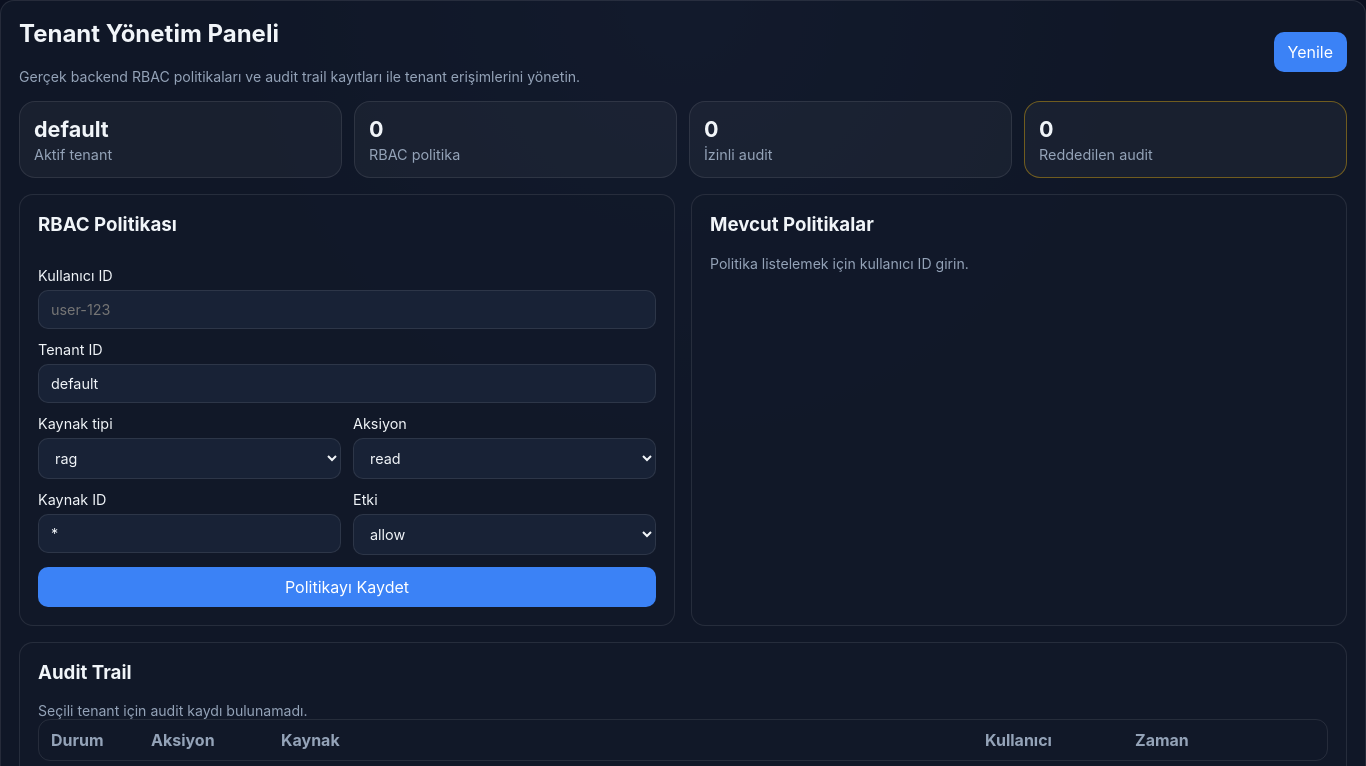
TenantAdminPanel › shows submit errors without replacing existing policies
Type "acme" into the field labelled "Tenant ID".
click(347, 383); type("acme")  # box [38,364,656,403]
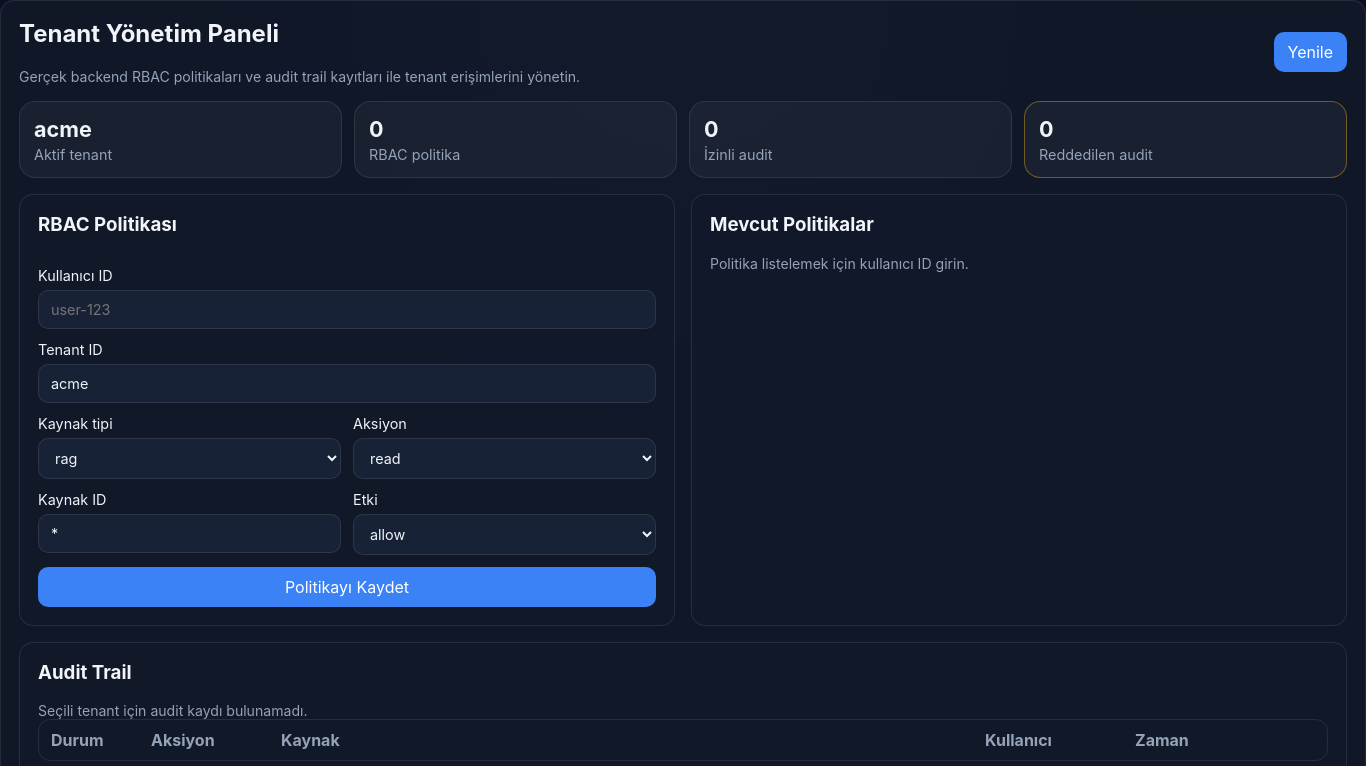
Type "user-1" into the field labelled "Kullanıcı ID".
click(347, 309); type("user-1")  # box [38,290,656,329]
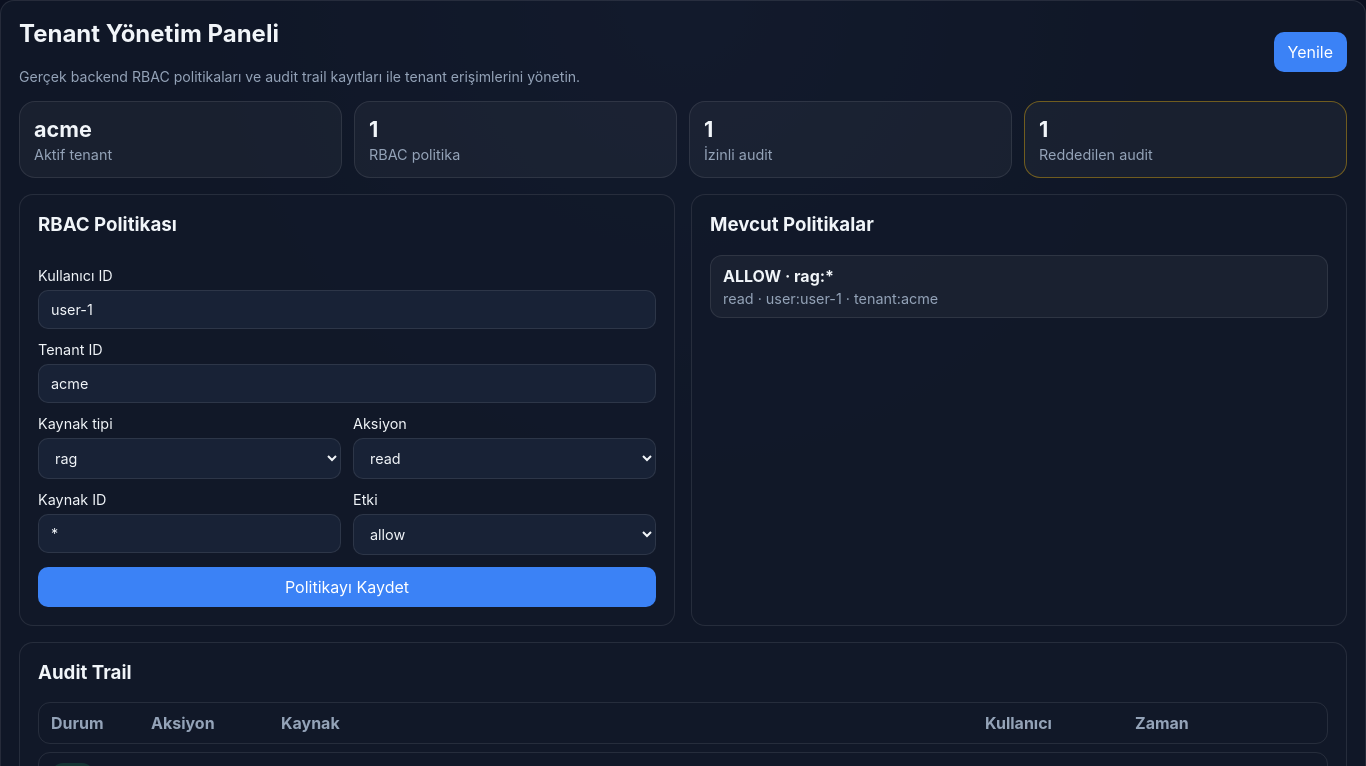
Expected: the text "ALLOW · rag:*" is shown, [723,266,834,286]
Click the button "Politikayı Kaydet".
click(347, 587)  # box [38,567,656,607]
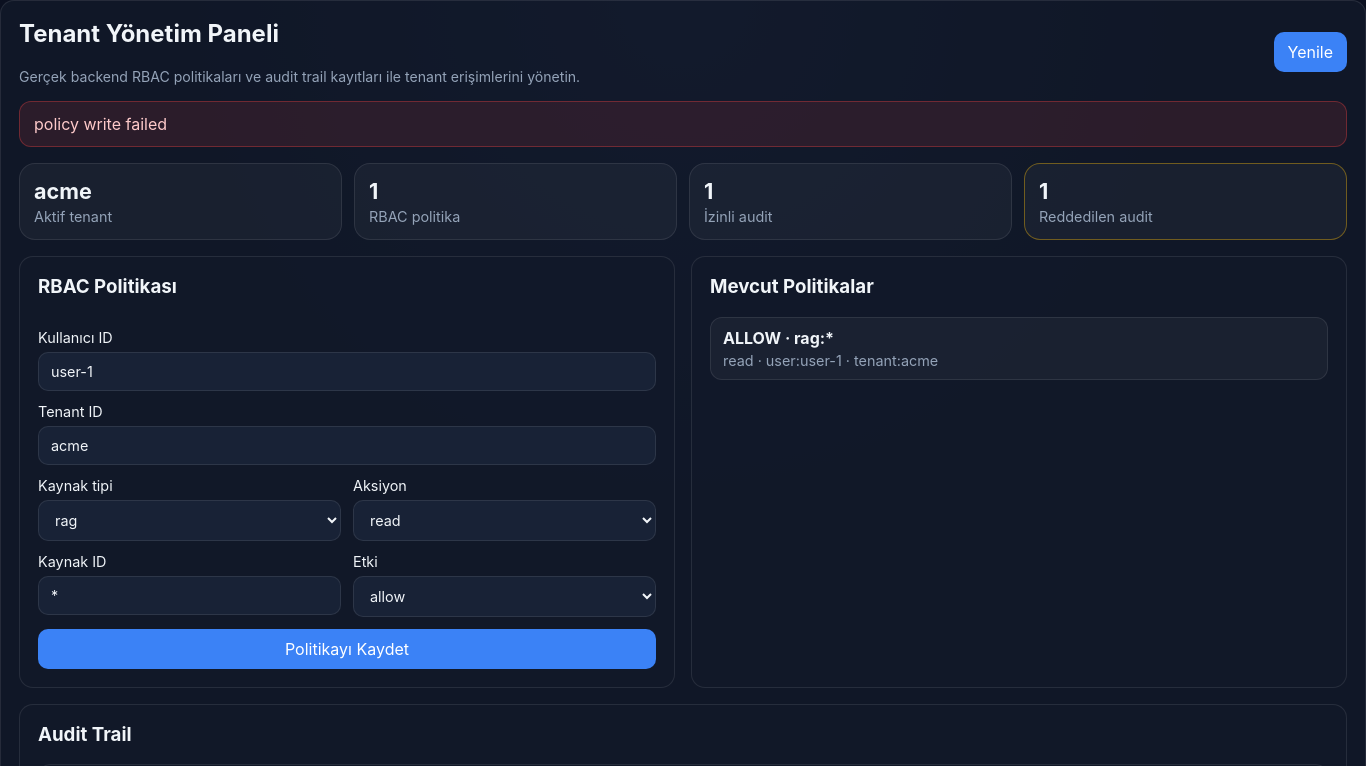
Expected: the text "ALLOW · rag:*" is shown, [723,328,834,348]
Expected: the message reads "policy write failed", [34,114,167,134]
